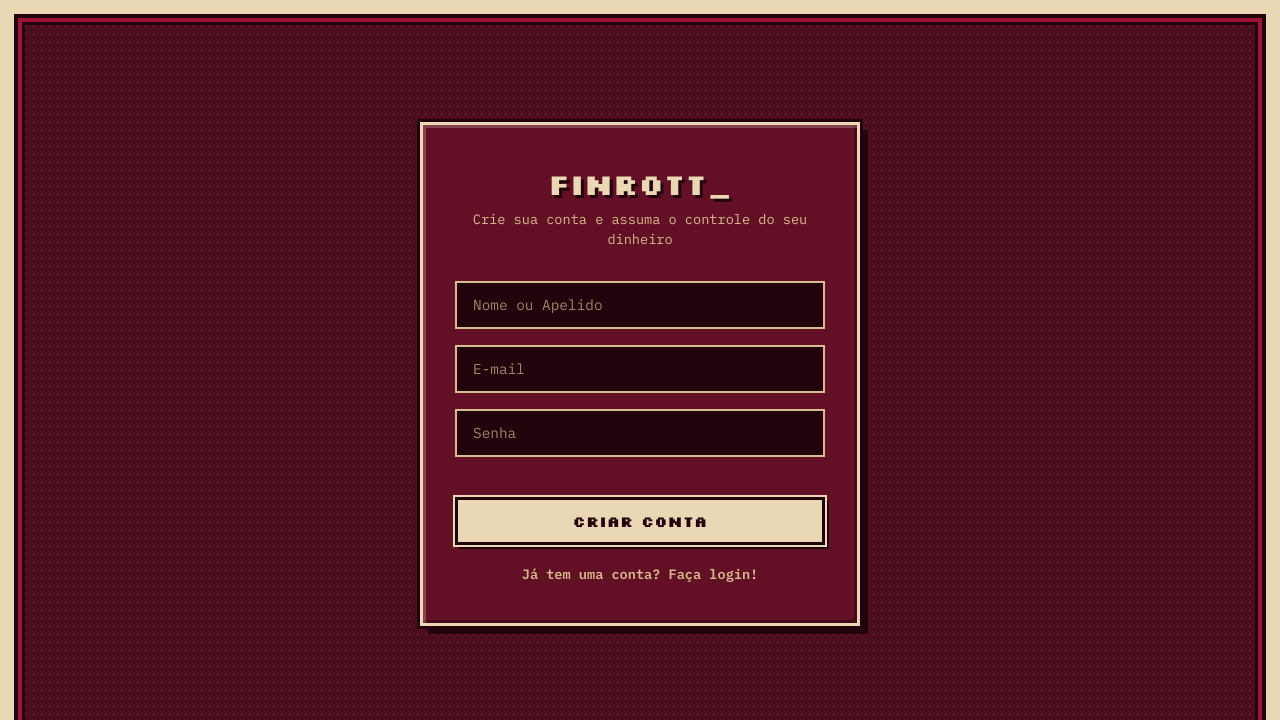
Test case: Authentication Pages & Validations › SignUpPage › validates invalid email format
Type "Eduardo" into the field with placeholder "Nome ou Apelido" at {"x": 640, "y": 304}, box [455,280,825,328]
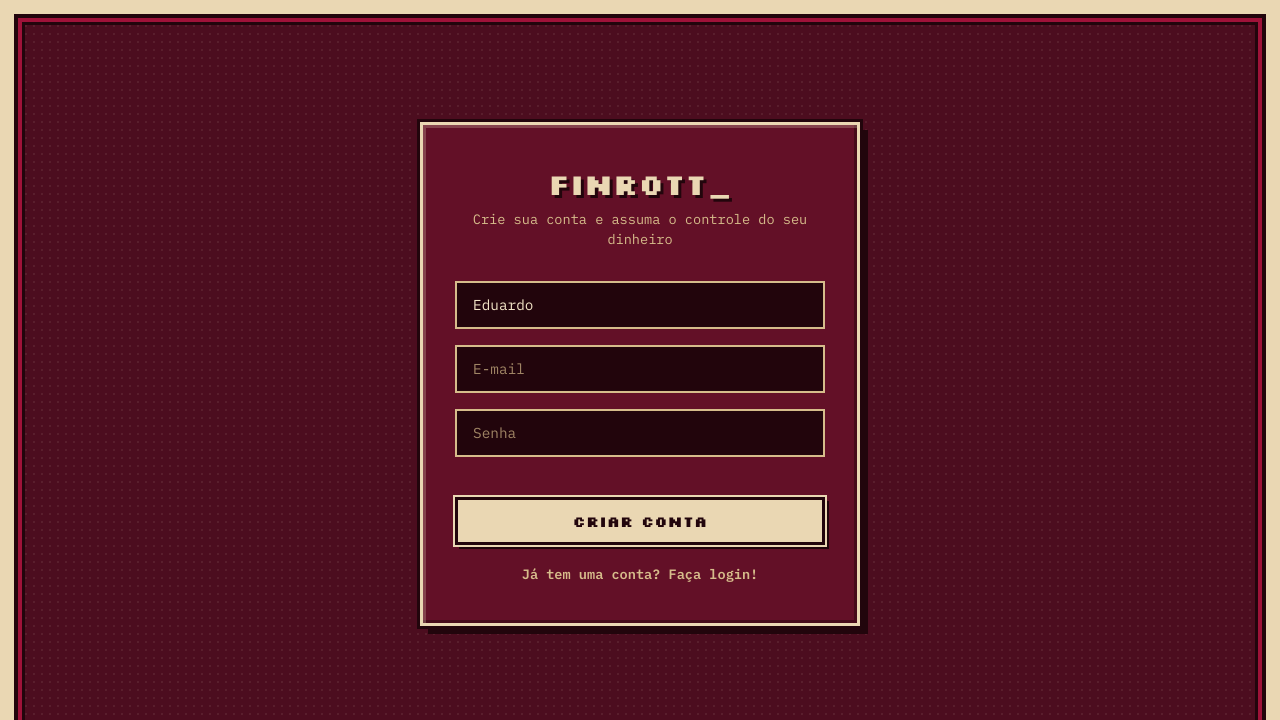
Type "email-invalido-sem-arroba" into the field with placeholder "E-mail" at {"x": 640, "y": 368}, box [455,344,825,392]
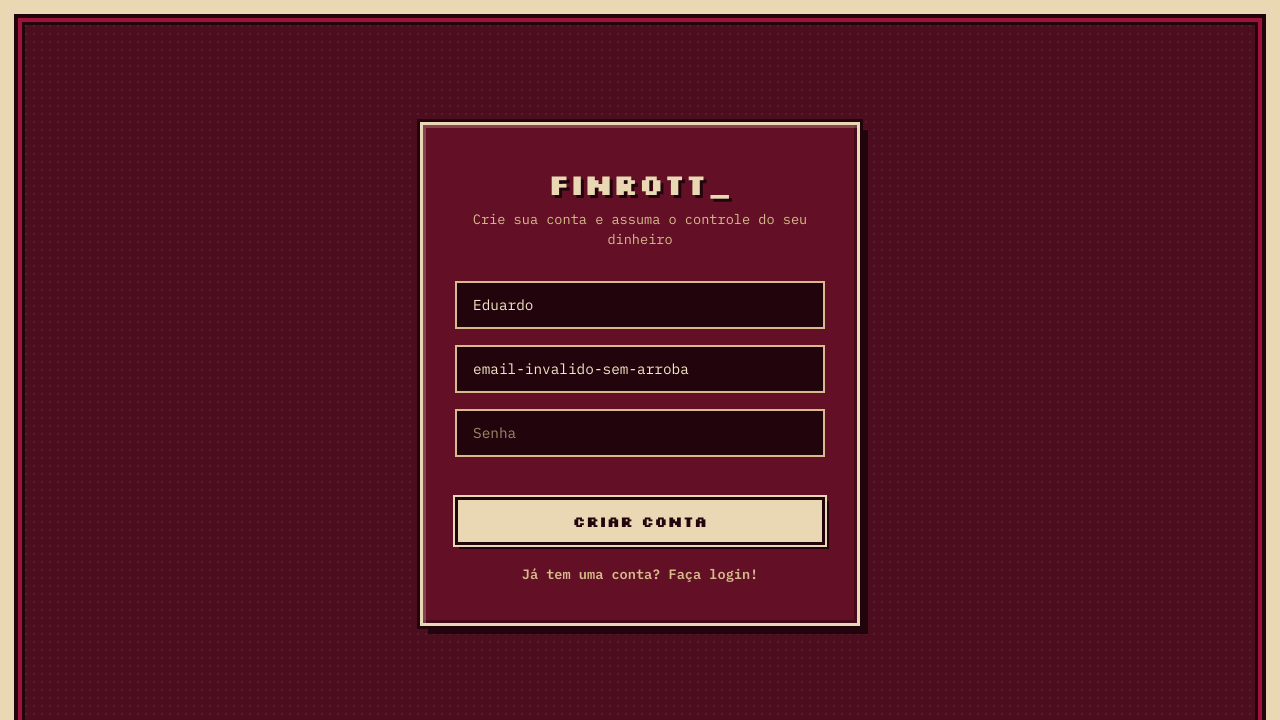
Type "123456" into the password field with placeholder "Senha" at {"x": 640, "y": 432}, box [455,408,825,456]
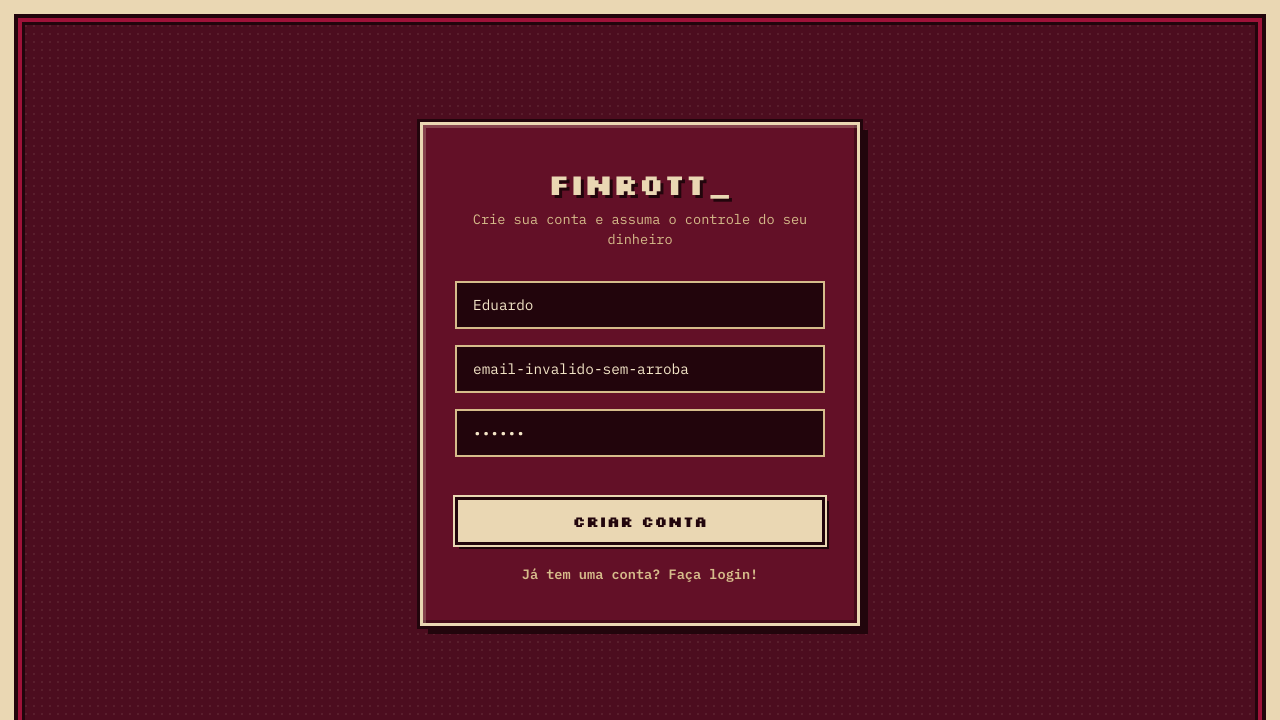
Submit the form "Criar Conta", box [455,280,825,544]
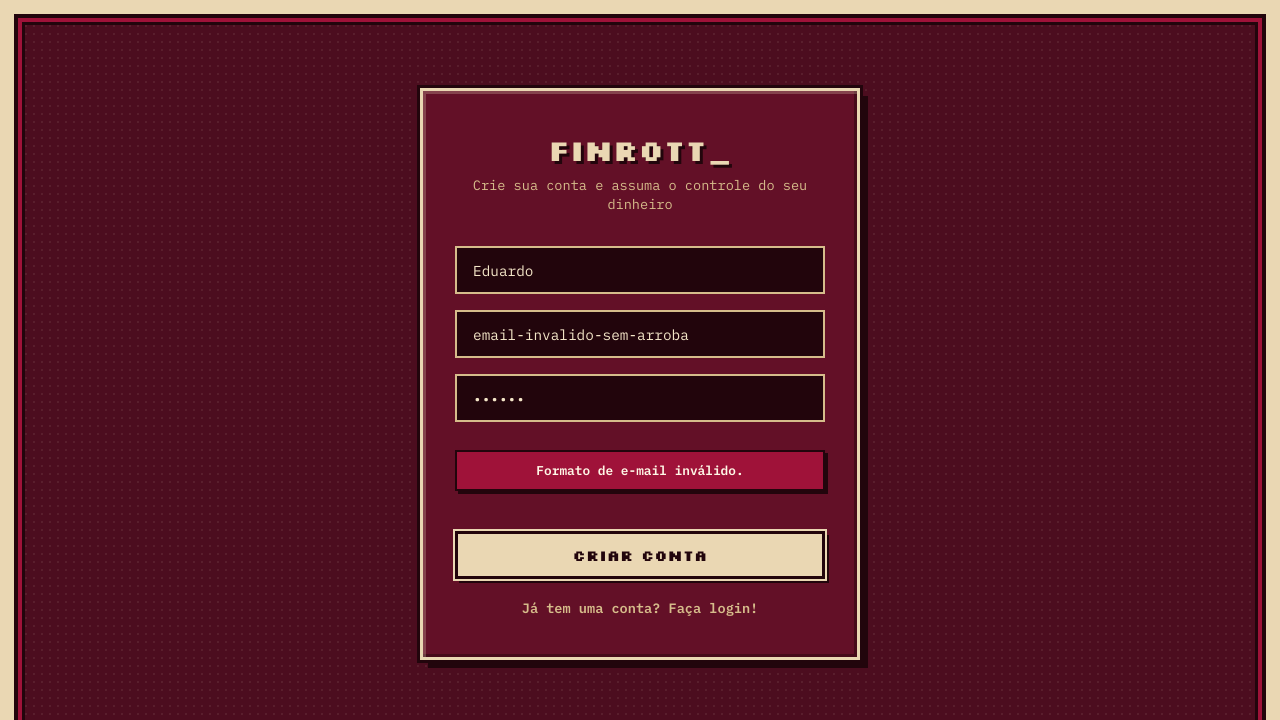
Expected: the text "Formato de e-mail inválido." is shown, [455,450,825,491]
